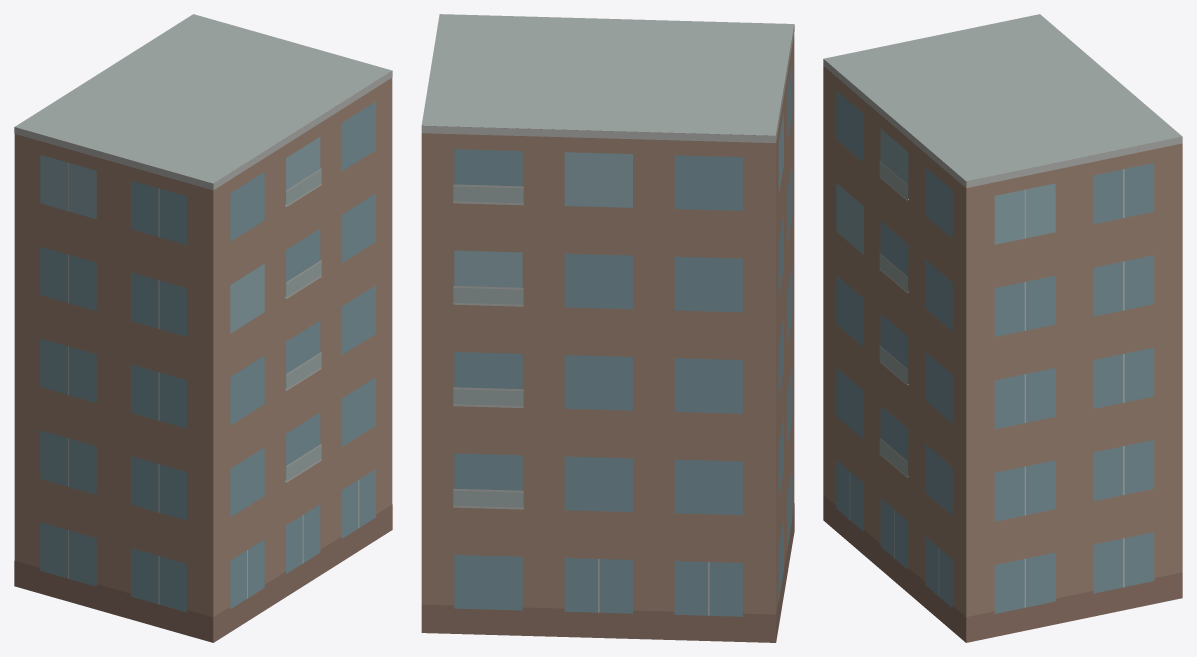
Rendered from survey-upis-32681053.glb.
The picture shows the model from 3 angles, left to right: view 1: azimuth 30°, elevation 25°; view 2: azimuth 150°, elevation 25°; view 3: azimuth 270°, elevation 25°; orthographic projection. The views are drawn at different scales.
Visible parts, largest first — view 1: survey-upis-32681053.tmp; view 2: survey-upis-32681053.tmp; view 3: survey-upis-32681053.tmp.
Boxes of the visible parts, x1,y1,x2,y2 form: survey-upis-32681053.tmp: (14,14,392,642); survey-upis-32681053.tmp: (421,14,794,642); survey-upis-32681053.tmp: (823,14,1182,642).
Size of the model in its own units: 12.84 by 16.5 by 11.65.
